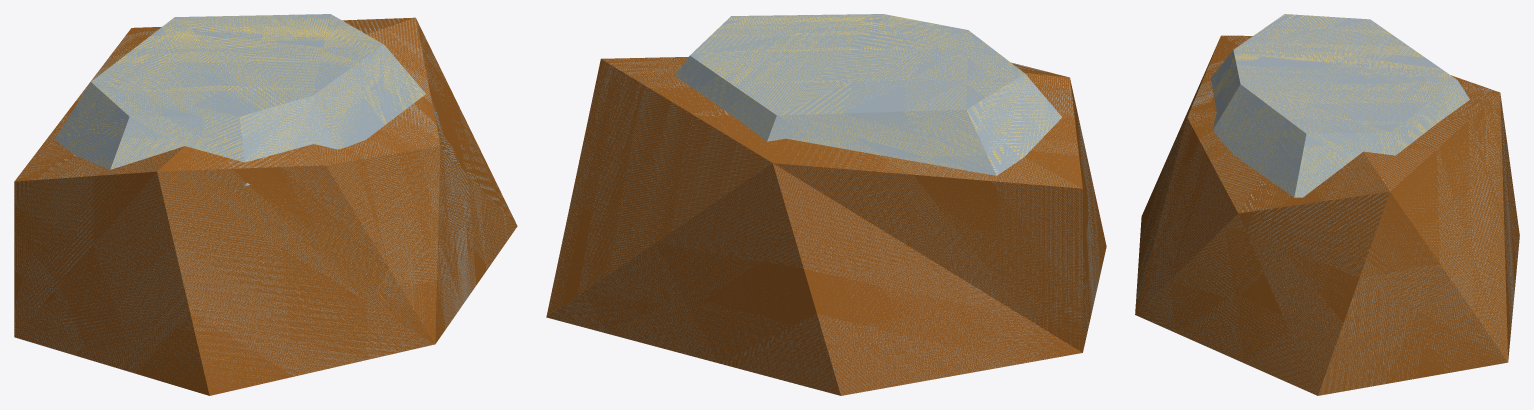
File: Rock_Small_Dirt_Sand_04.fbx
3 views of the same model, side by side, from view 1: azimuth 30°, elevation 25°; view 2: azimuth 150°, elevation 25°; view 3: azimuth 270°, elevation 25° (orthographic). The views are drawn at different scales.
Parts seen in each view (by area): view 1: Model; view 2: Model; view 3: Model.
Part boxes in pixels (x1,y1,x2,y2): Model: [14, 14, 517, 395]; Model: [546, 14, 1106, 395]; Model: [1135, 14, 1519, 395].
Size of the model in its own units: 190 by 103 by 142.
